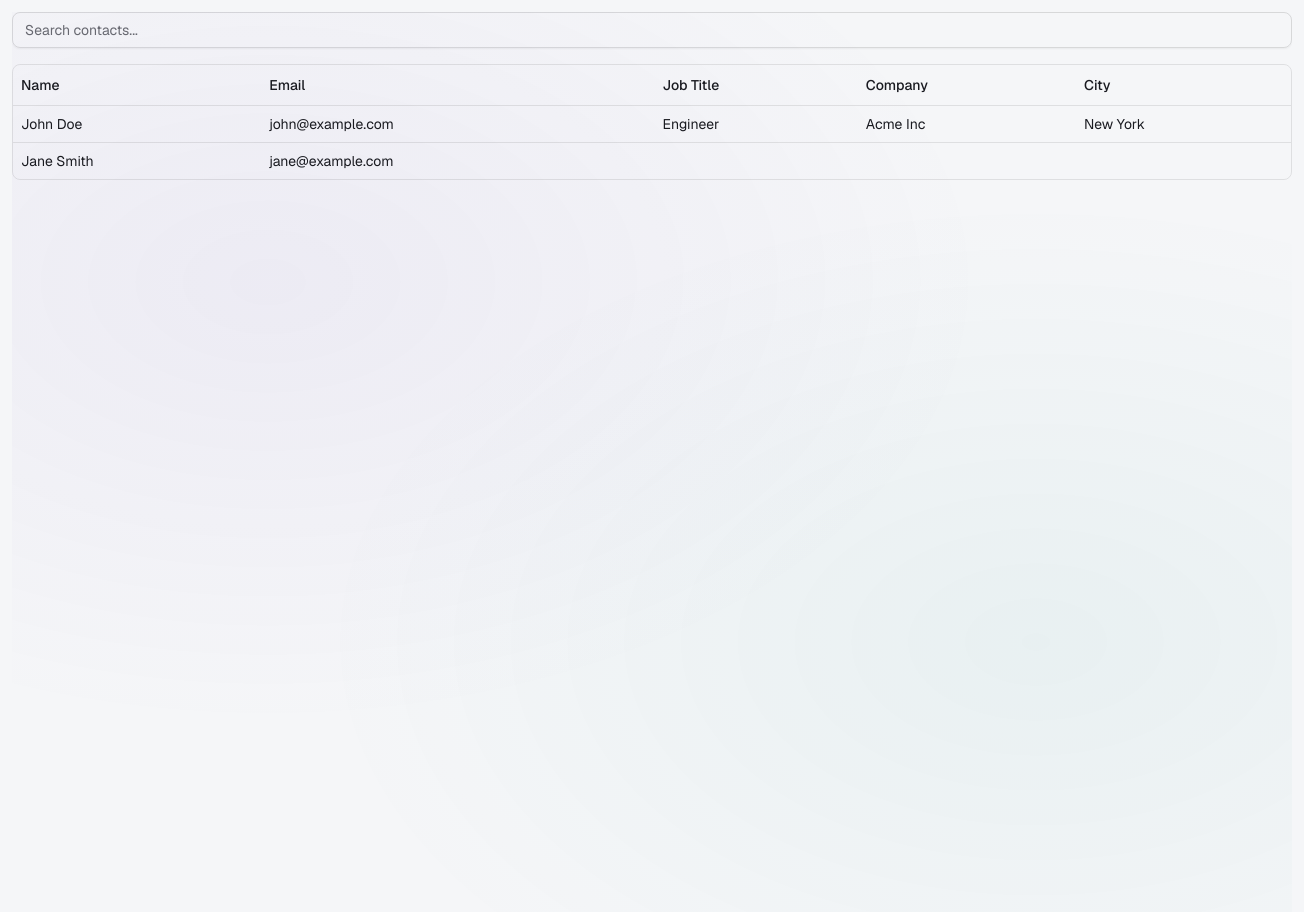
Test case: ContactTable › filters by search input
The width and height of the screenshot is (1304, 912).
Type "Jane" into the field with test id "contact-search".
click(652, 30); type("Jane")  # box [12,12,1292,48]
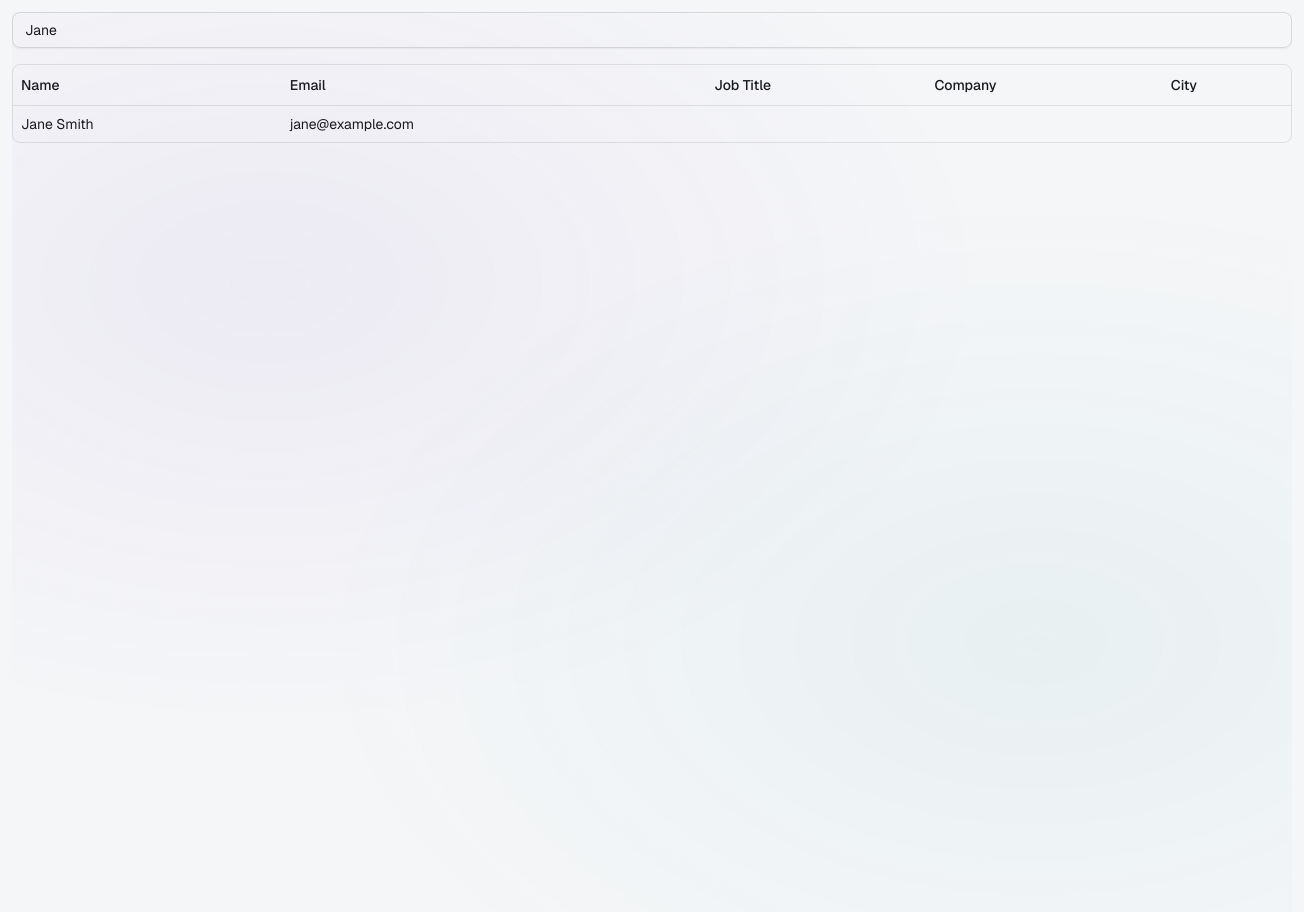
expect the number of rows with test id "contact-row" is 1: met, box [13,105,1291,142]
